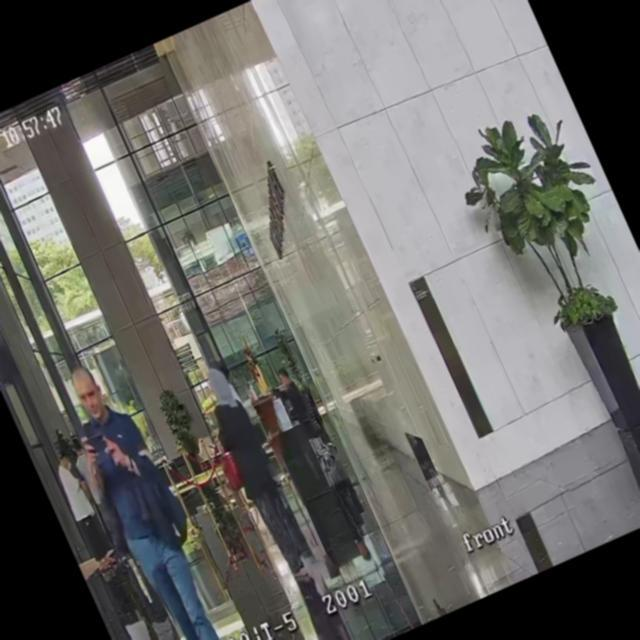person: (41, 350, 264, 640), (192, 362, 318, 582), (39, 428, 120, 562), (272, 364, 312, 427)
